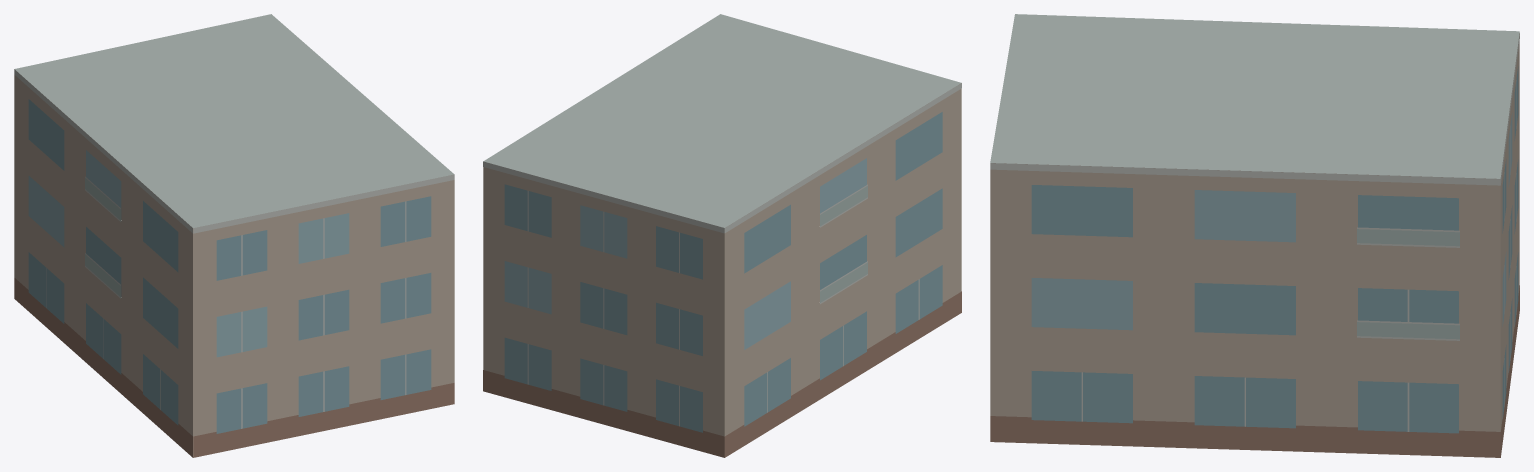
The model's file is survey-upis-32542357.glb.
3 renders of one model, left to right at view 1: azimuth 30°, elevation 25°; view 2: azimuth 150°, elevation 25°; view 3: azimuth 270°, elevation 25°, orthographic. The views are drawn at different scales.
Parts seen in each view (by area): view 1: survey-upis-32542357.tmp; view 2: survey-upis-32542357.tmp; view 3: survey-upis-32542357.tmp.
Boxes of the visible parts, <box> form: survey-upis-32542357.tmp: <box>14,14,454,457</box>; survey-upis-32542357.tmp: <box>483,14,961,457</box>; survey-upis-32542357.tmp: <box>990,14,1519,457</box>.
Bounding box in the file's own units: 12.94 × 10.2 × 17.56.
